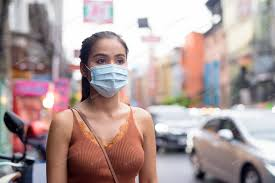with-mask: (80, 33, 133, 100)
